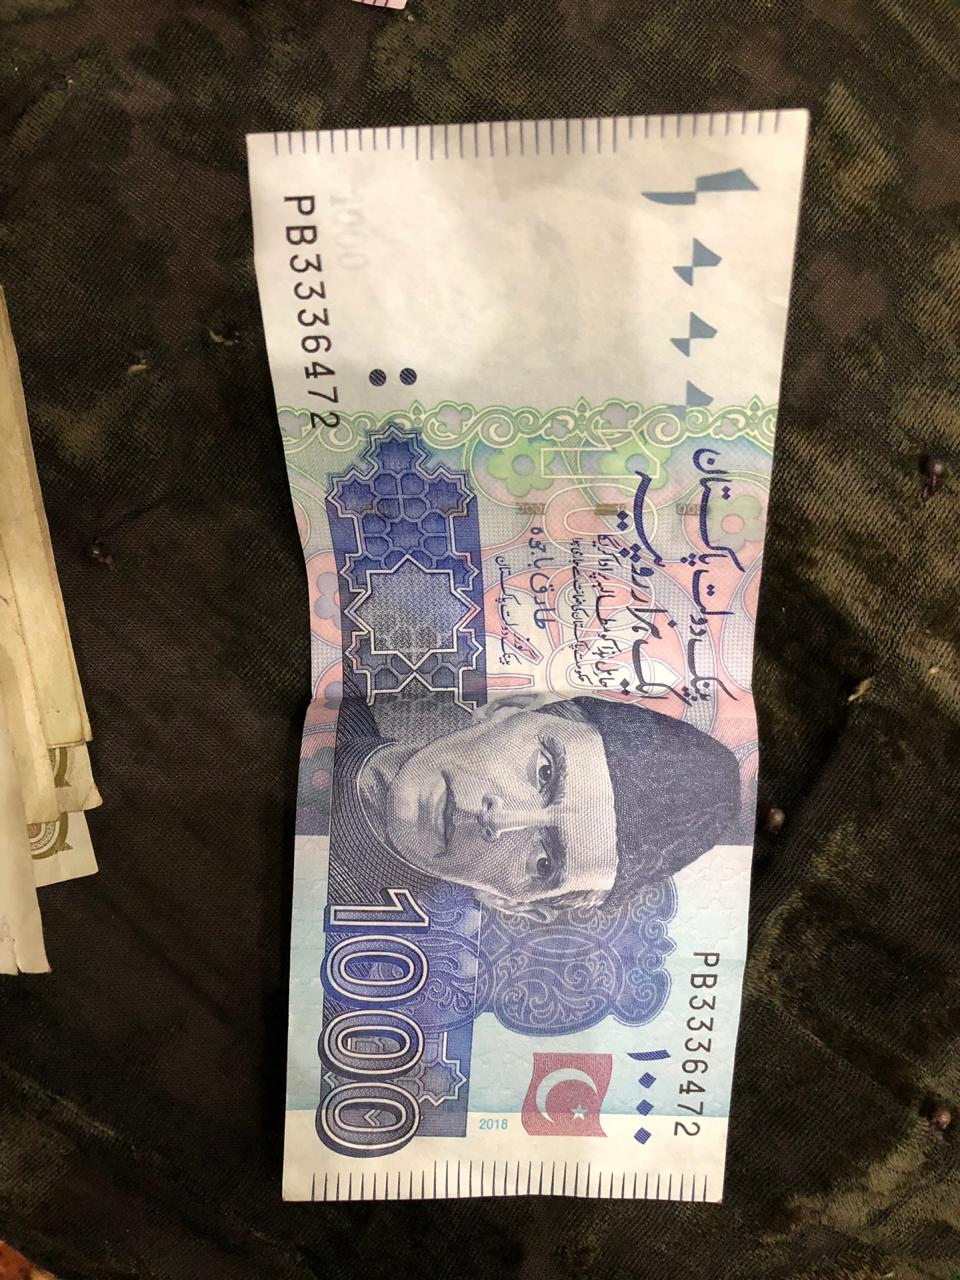1000 rupee: (199, 101, 810, 1247)
